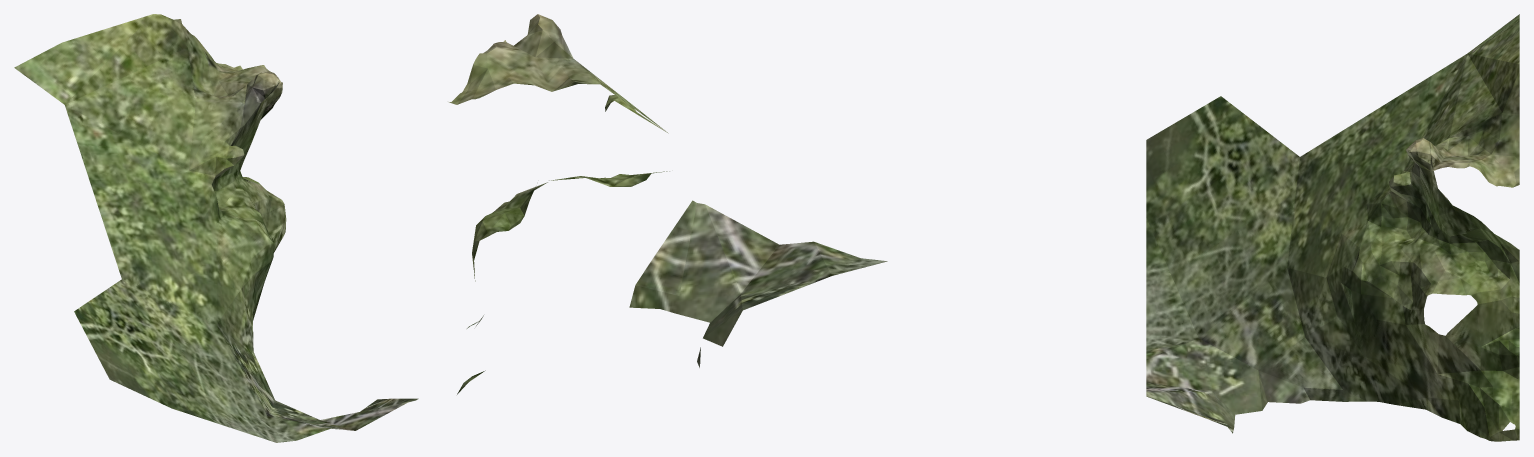
3 renders of one model, left to right at view 1: azimuth 30°, elevation 25°; view 2: azimuth 150°, elevation 25°; view 3: azimuth 270°, elevation 25°, orthographic. The views are drawn at different scales.
Bounding box in the file's own units: 2.95 × 2.91 × 2.95.
3 materials, 3 textured.
